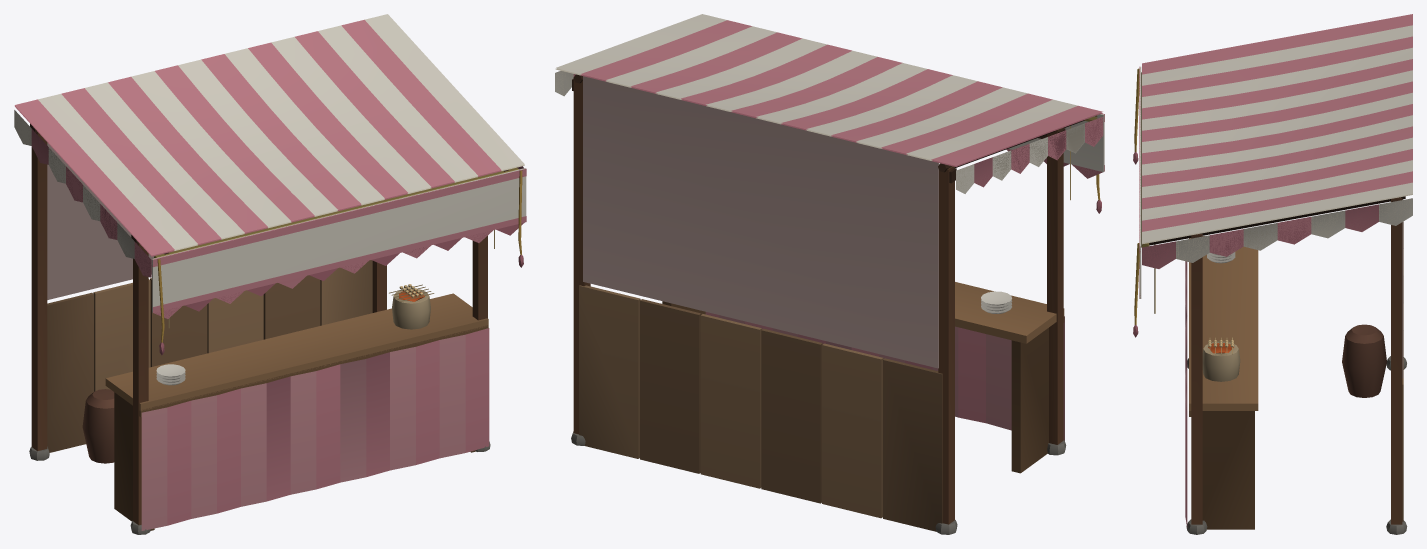
Rendered from yatai_dango.glb.
3 views of the same model, side by side, from view 1: azimuth 30°, elevation 25°; view 2: azimuth 150°, elevation 25°; view 3: azimuth 270°, elevation 25° (orthographic). The views are drawn at different scales.
Parts seen in each view (by area): view 1: booth; view 2: booth; view 3: booth.
Part boxes in pixels (x1,y1,x2,y2): booth: (14,14,526,534); booth: (555,14,1104,534); booth: (1133,14,1412,534).
Size of what is drawn, in the model's own units: 2.64 by 2.36 by 1.74.
